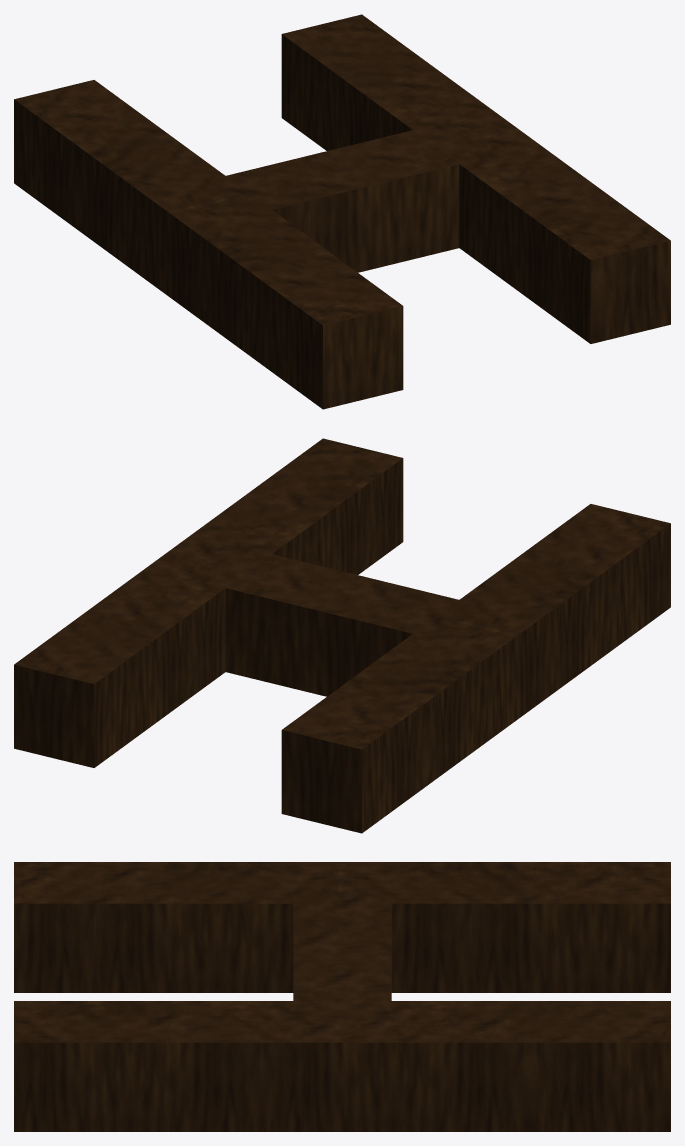
The model's file is LetterH.obj.
The picture shows the model from 3 angles, top to bottom: view 1: azimuth 30°, elevation 25°; view 2: azimuth 150°, elevation 25°; view 3: azimuth 270°, elevation 25°; orthographic projection. The views are drawn at different scales.
Parts seen in each view (by area): view 1: LetterH; view 2: LetterH; view 3: LetterH.
Part boxes in pixels (x1=…): LetterH: x1=14, y1=14, x2=670, y2=409; LetterH: x1=14, y1=438, x2=670, y2=833; LetterH: x1=14, y1=862, x2=670, y2=1131.
Size of the model in its own units: 0.6501 by 0.15 by 1.
